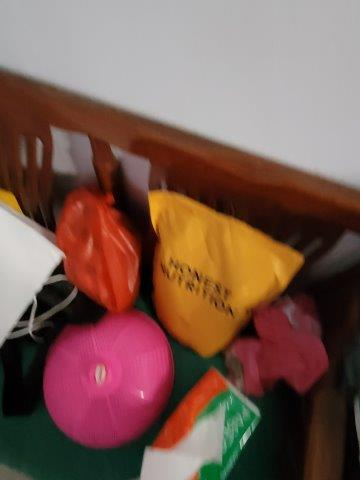plastik: (54, 189, 147, 311)
